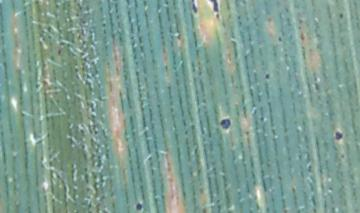tarspot: (207, 1, 221, 21), (217, 118, 233, 131), (188, 1, 199, 16), (333, 130, 345, 142), (134, 200, 143, 212), (32, 81, 42, 90), (262, 72, 271, 81), (337, 12, 345, 20), (56, 47, 62, 56), (277, 34, 283, 42)
